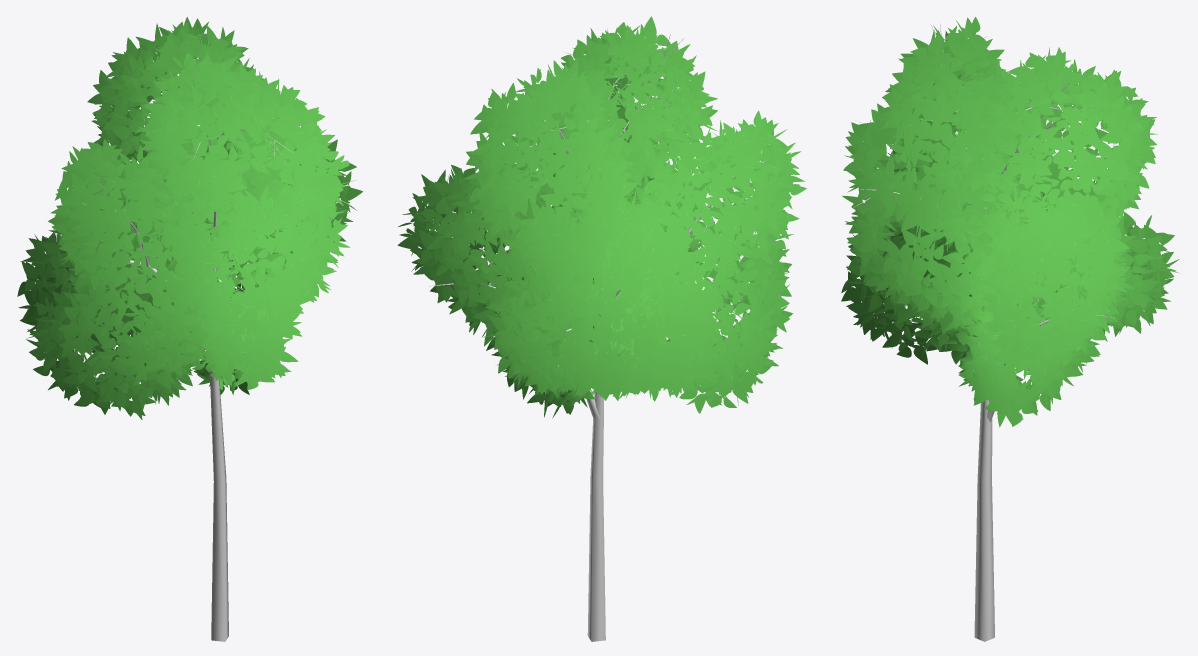
The model's file is tree2LoD0.fbx.
3 views of the same model, side by side, from view 1: azimuth 30°, elevation 25°; view 2: azimuth 150°, elevation 25°; view 3: azimuth 270°, elevation 25° (orthographic).
Parts seen in each view (by area): view 1: Hoja.006, tree.003; view 2: Hoja.006, tree.003; view 3: Hoja.006, tree.003.
Part boxes in pixels (x1,y1,x2,y2): Hoja.006: (17,17,362,419); tree.003: (82,34,356,641); Hoja.006: (397,16,806,418); tree.003: (428,34,788,641); Hoja.006: (841,17,1179,427); tree.003: (852,23,1114,641).
Size of the model in its own units: 386 by 651 by 337.
